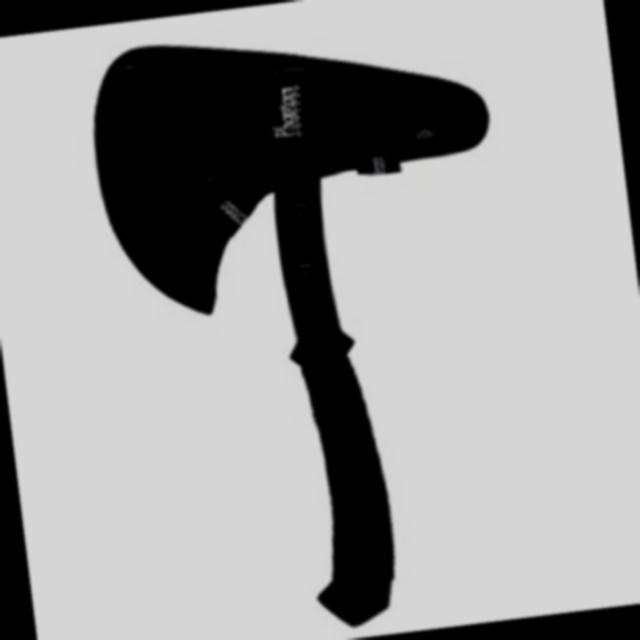ax: (77, 0, 551, 640)
